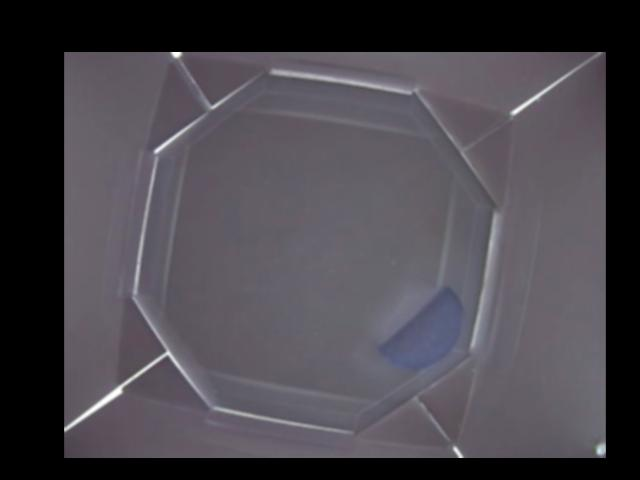Mooli: (376, 285, 462, 370)
